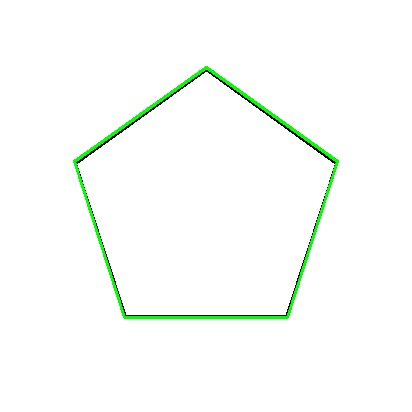line_segment: (74, 67, 339, 319)
